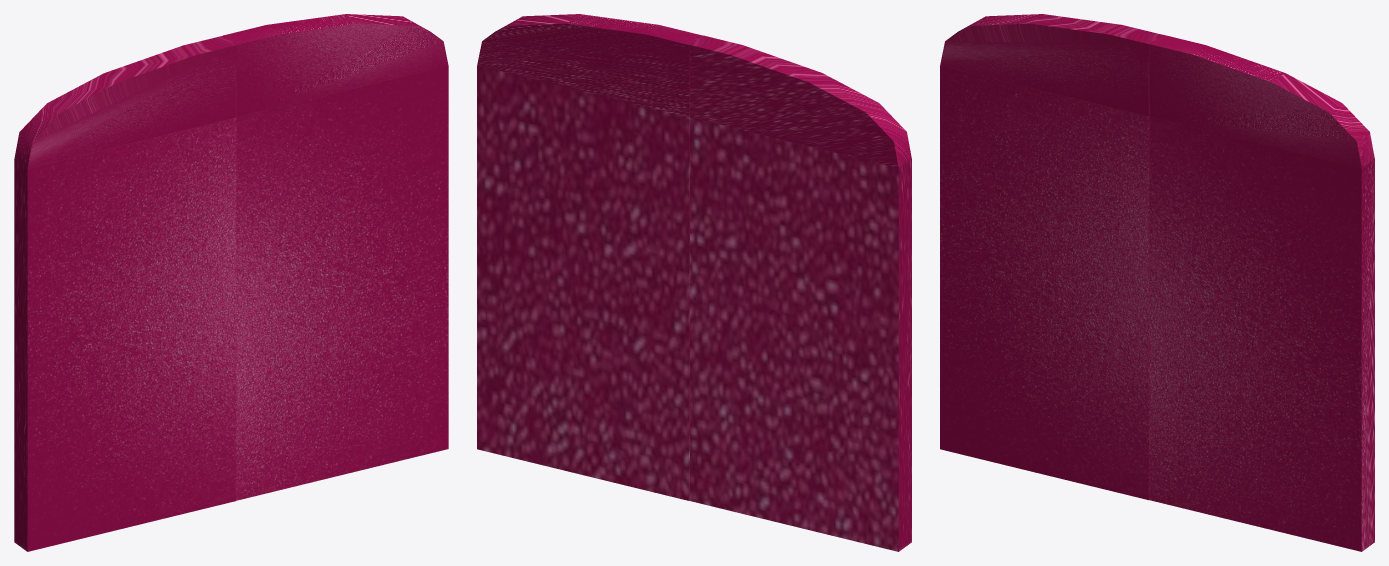
File: Porton.obj
3 renders of one model, left to right at view 1: azimuth 30°, elevation 25°; view 2: azimuth 150°, elevation 25°; view 3: azimuth 330°, elevation 25°, orthographic.
Visible parts, largest first — view 1: pasted__polySurface83 pasted__polySurface81 group31, pasted__polySurface84 pasted__polySurface81 group30; view 2: pasted__polySurface83 pasted__polySurface81 group31, pasted__polySurface84 pasted__polySurface81 group30; view 3: pasted__polySurface84 pasted__polySurface81 group30, pasted__polySurface83 pasted__polySurface81 group31.
Boxes of the visible parts, <box> form: pasted__polySurface83 pasted__polySurface81 group31: <box>14,36,236,551</box>; pasted__polySurface84 pasted__polySurface81 group30: <box>223,14,448,500</box>; pasted__polySurface83 pasted__polySurface81 group31: <box>690,35,911,551</box>; pasted__polySurface84 pasted__polySurface81 group30: <box>477,14,702,500</box>; pasted__polySurface84 pasted__polySurface81 group30: <box>1149,34,1374,551</box>; pasted__polySurface83 pasted__polySurface81 group31: <box>940,14,1161,500</box>.
Bounding box in the file's own units: 0.8108 × 0.8383 × 0.0444.
4 materials, 4 textured.
